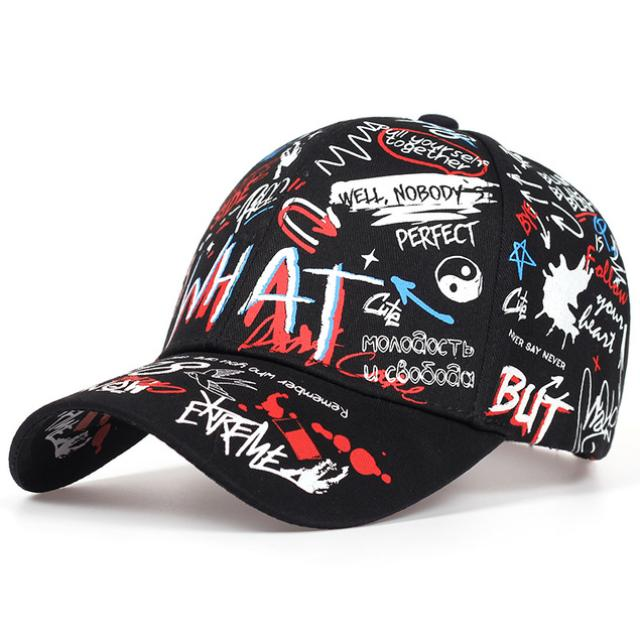Nonhelmet: (7, 110, 631, 530)
